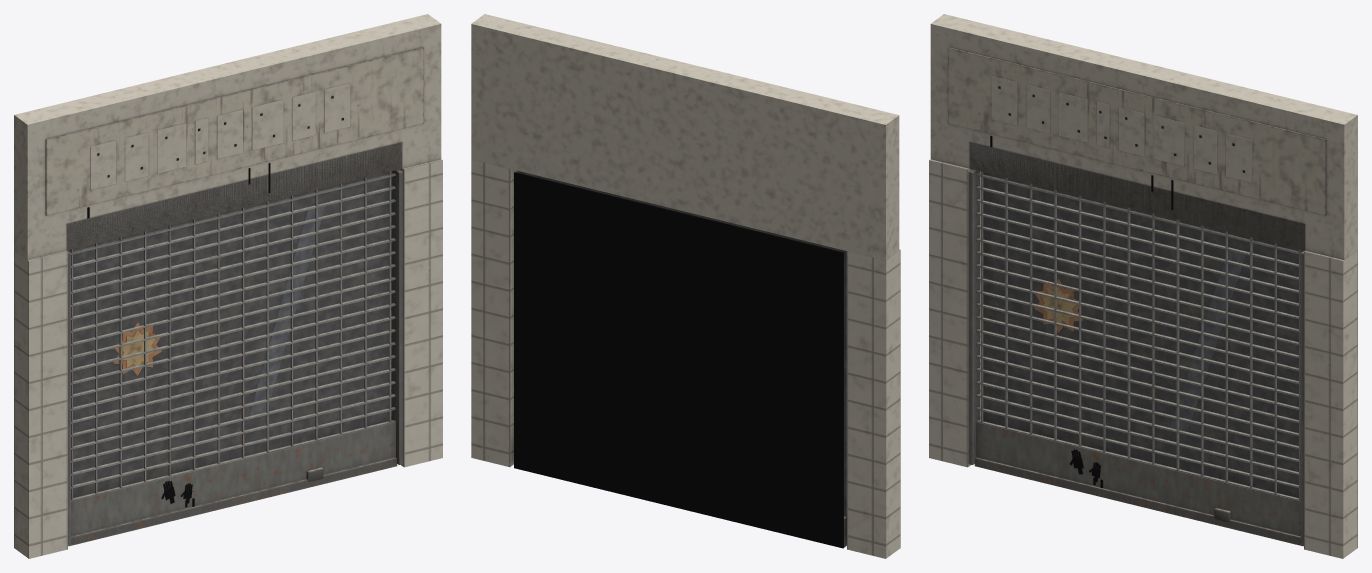
Rendered from mall_shutter.fbx.
3 renders of one model, left to right at view 1: azimuth 30°, elevation 25°; view 2: azimuth 150°, elevation 25°; view 3: azimuth 330°, elevation 25°, orthographic.
Visible parts, largest first — view 1: Body, Door; view 2: Body; view 3: Body, Door.
Part boxes in pixels (left/top/right/bottom): Body: left=14, top=14, right=442, bottom=558; Door: left=68, top=171, right=397, bottom=546; Body: left=471, top=14, right=900, bottom=558; Body: left=929, top=14, right=1357, bottom=558; Door: left=974, top=171, right=1303, bottom=546.
Bounding box in the file's own units: 16 × 16 × 1.
Materials: 1 (1 with a texture image).
